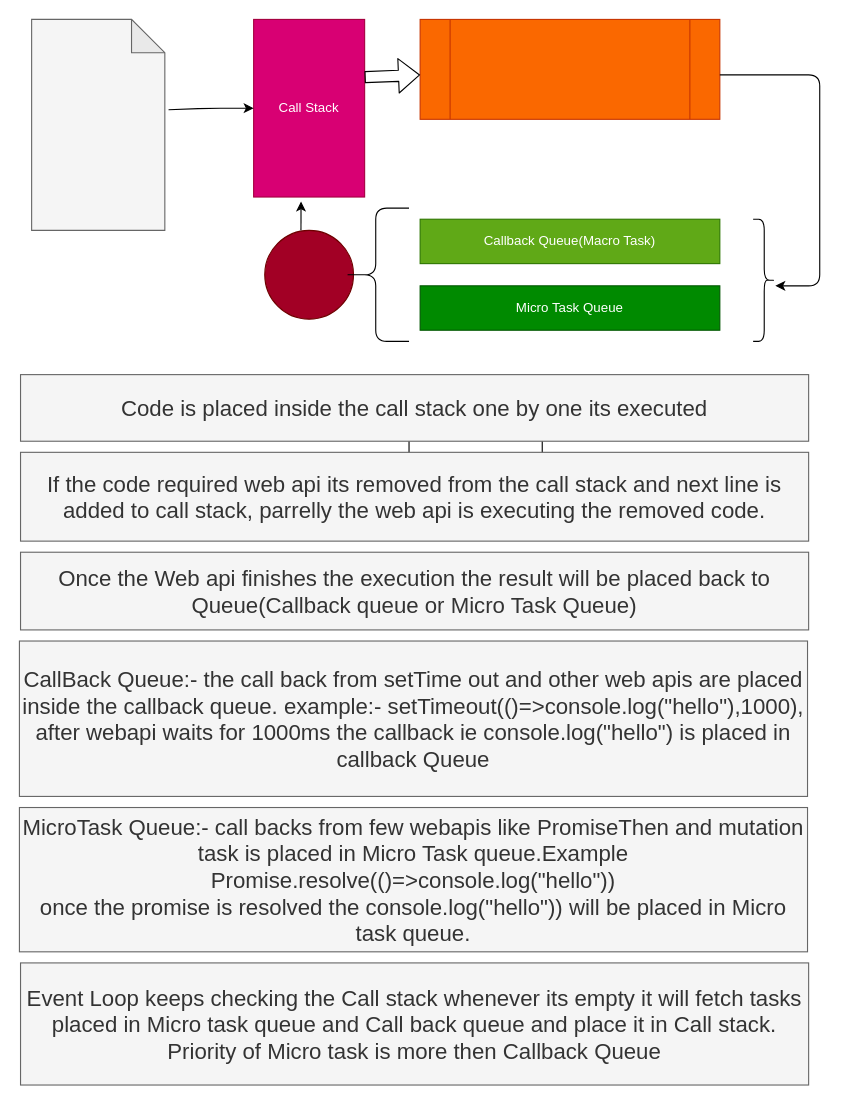
The diagram is 848 pixels wide and 1104 high, and some of its shapes have lost their labels. Here are the shapes that lost their labels. From the top down, the box of each, then its label:
(419, 18, 720, 119): Web APIs(setTimeout,promise,etc)
(31, 18, 165, 230): Code
(264, 229, 354, 319): Event Loop
